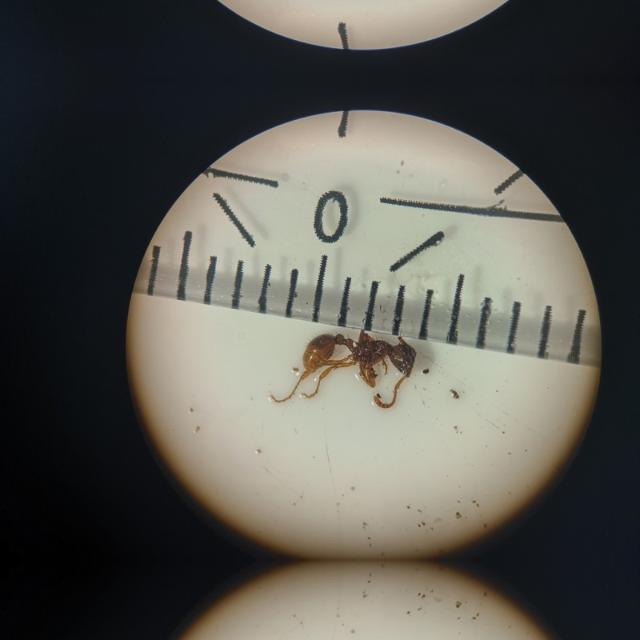Myrmica: (290, 313, 422, 403)
